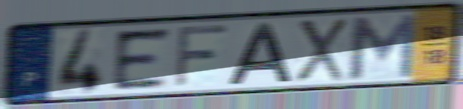4: (55, 26, 106, 97)
A: (225, 21, 294, 88)
E: (112, 25, 172, 93)
F: (172, 22, 231, 90)
M: (347, 12, 419, 82)
X: (294, 16, 349, 84)
